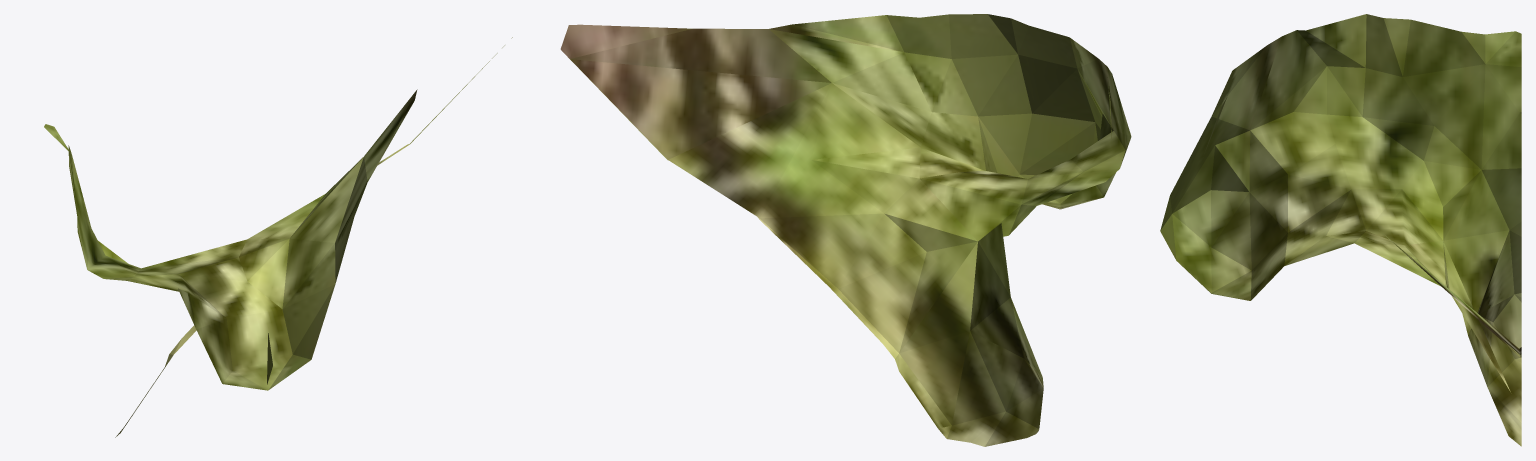
3 renders of one model, left to right at view 1: azimuth 30°, elevation 25°; view 2: azimuth 150°, elevation 25°; view 3: azimuth 270°, elevation 25°, orthographic. The views are drawn at different scales.
Size of the model in its own units: 1.35 by 0.8274 by 0.7227.
Materials: 1 (1 with a texture image).
